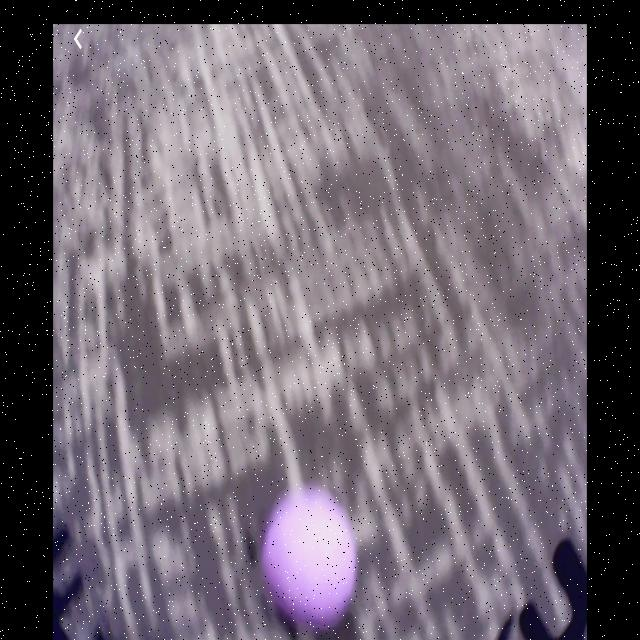ball: (261, 490, 359, 625)
